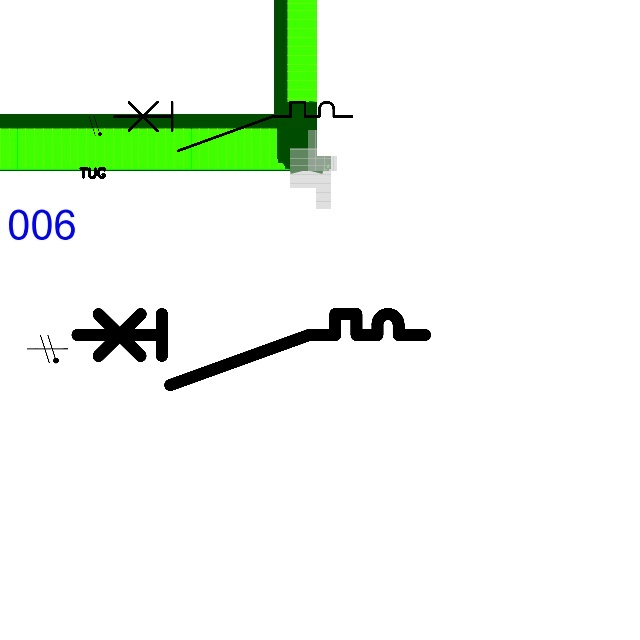interruptor_termomagnetico: (68, 305, 434, 394), (108, 96, 358, 157)
